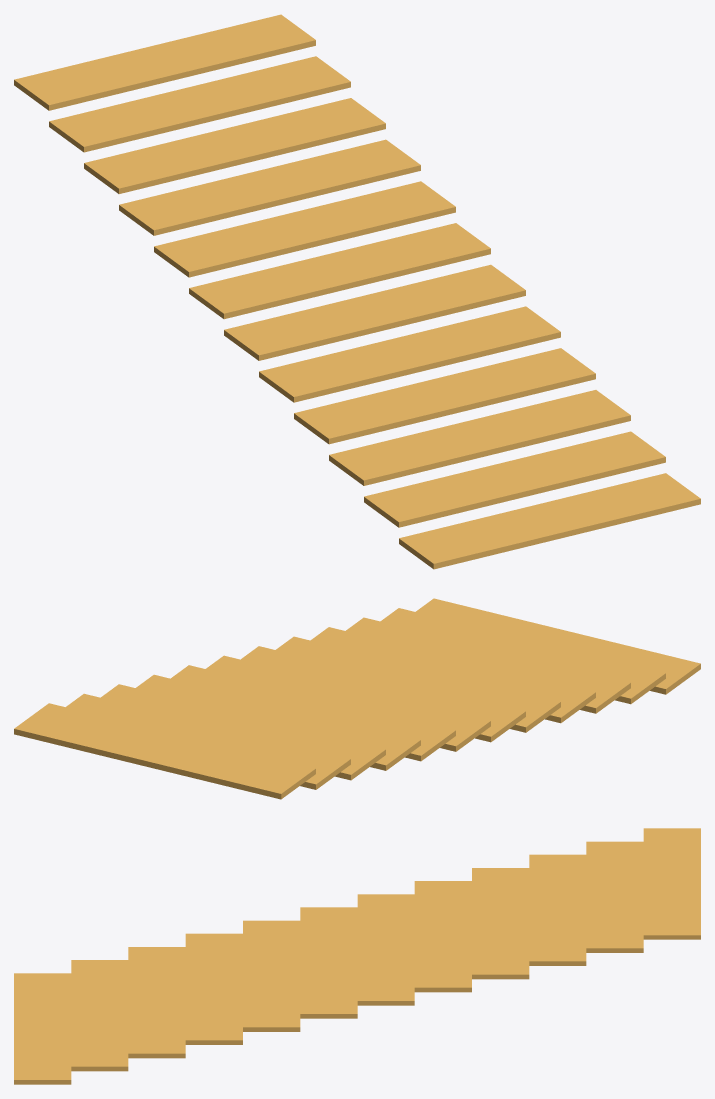
Rendered from OU_AR_LawAnim_01_D.fbx.
3 renders of one model, top to bottom at view 1: azimuth 30°, elevation 25°; view 2: azimuth 150°, elevation 25°; view 3: azimuth 270°, elevation 25°, orthographic. The views are drawn at different scales.
Parts seen in each view (by area): view 1: OU_AR_LawAnim_01_D; view 2: OU_AR_LawAnim_01_D; view 3: OU_AR_LawAnim_01_D.
Part boxes in pixels (box(x1,y1,x2,y2)): OU_AR_LawAnim_01_D: box(14, 14, 700, 569); OU_AR_LawAnim_01_D: box(14, 598, 700, 799); OU_AR_LawAnim_01_D: box(14, 828, 700, 1084).
Bounding box in the file's own units: 296 × 193 × 804.
